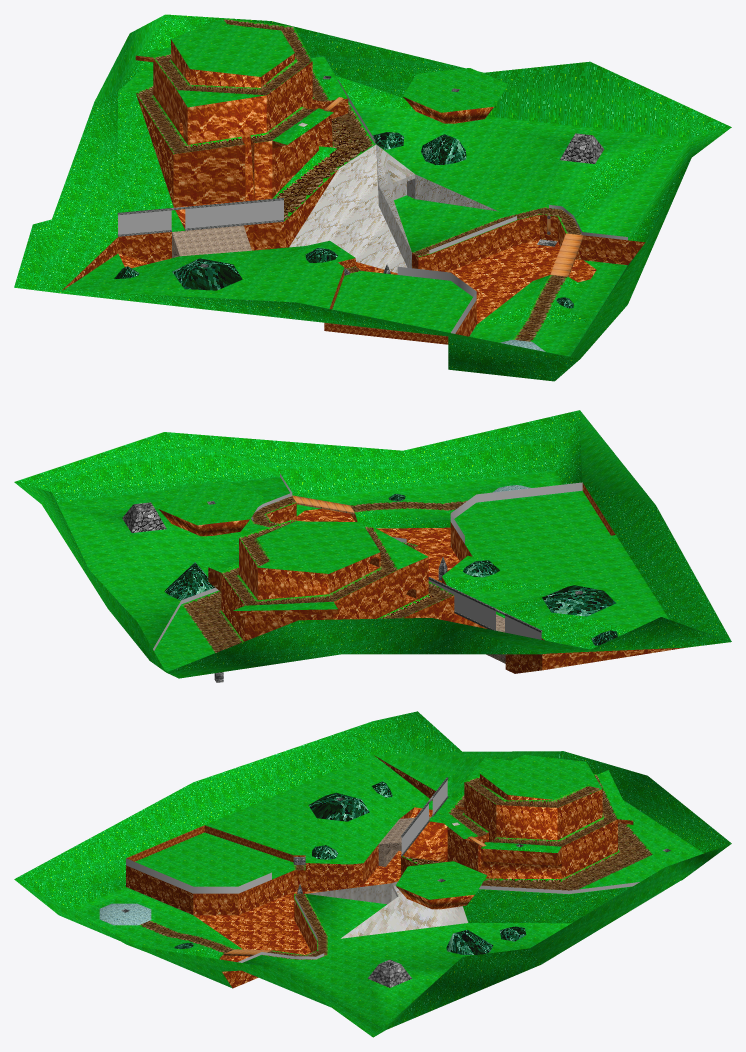
3 renders of one model, top to bottom at view 1: azimuth 30°, elevation 25°; view 2: azimuth 150°, elevation 25°; view 3: azimuth 270°, elevation 25°, orthographic. The views are drawn at different scales.
Size of the model in its own units: 2598 by 524 by 2598.
